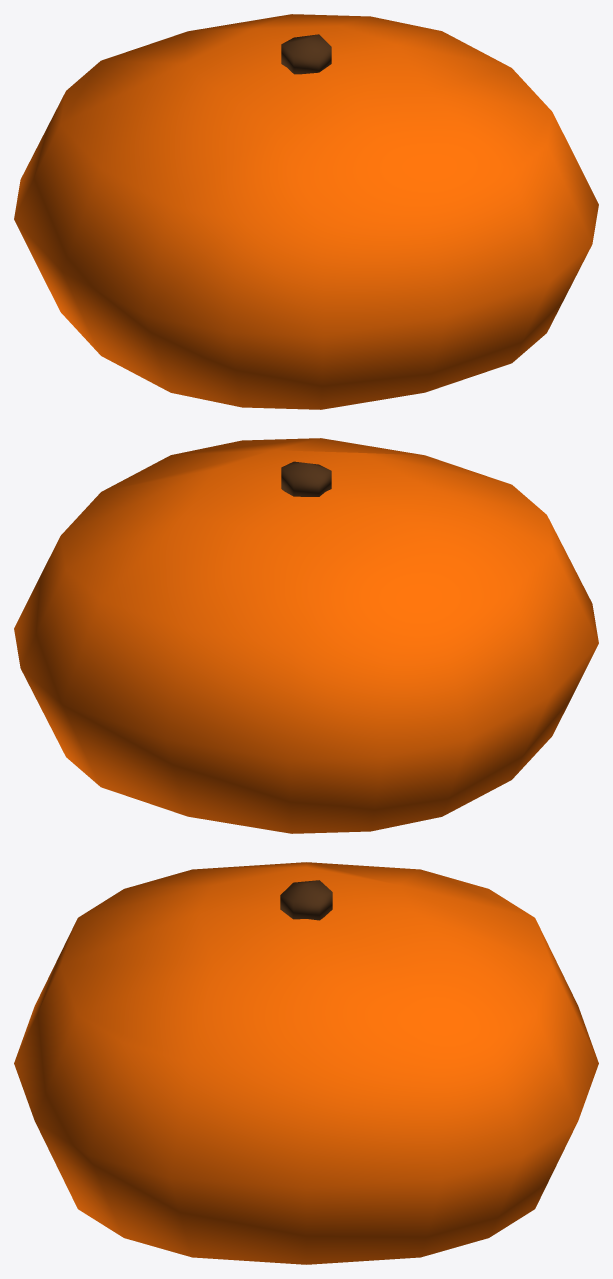
The model's file is tangerine_no_eyes.fbx.
3 renders of one model, top to bottom at view 1: azimuth 30°, elevation 25°; view 2: azimuth 150°, elevation 25°; view 3: azimuth 270°, elevation 25°, orthographic. The views are drawn at different scales.
Visible parts, largest first — view 1: Mandarin, Tallo; view 2: Mandarin, Tallo; view 3: Mandarin, Tallo.
Boxes of the visible parts, left/top/right/bottom form: Mandarin: left=14, top=14, right=598, bottom=409; Tallo: left=281, top=34, right=331, bottom=74; Mandarin: left=14, top=438, right=598, bottom=833; Tallo: left=281, top=461, right=331, bottom=496; Mandarin: left=14, top=862, right=598, bottom=1264; Tallo: left=280, top=880, right=332, bottom=920.
Bounding box in the file's own units: 380 × 240 × 380.
